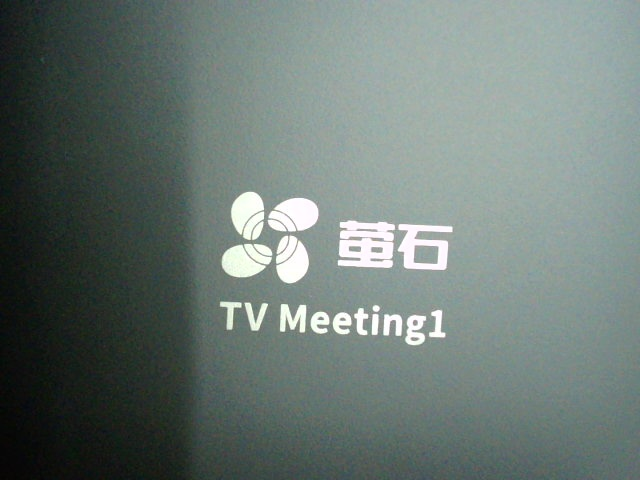BA_Yingshi: (207, 189, 457, 348)
